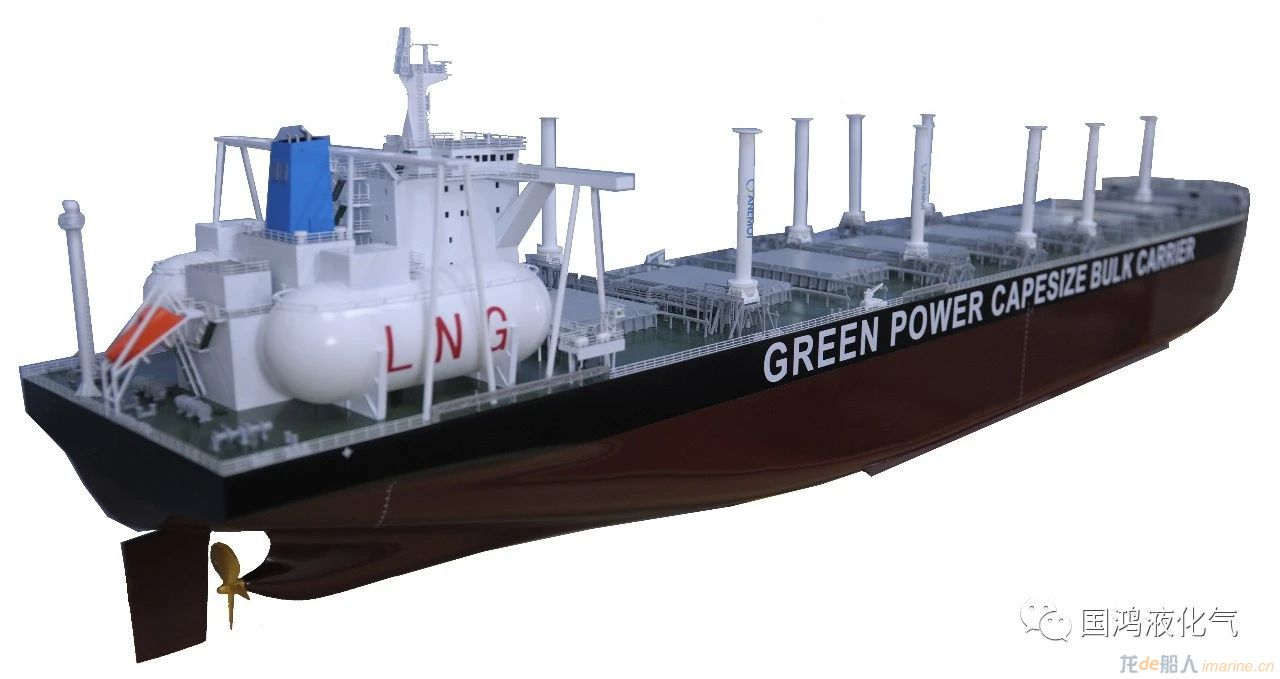Cargoship: (12, 28, 1252, 619)
